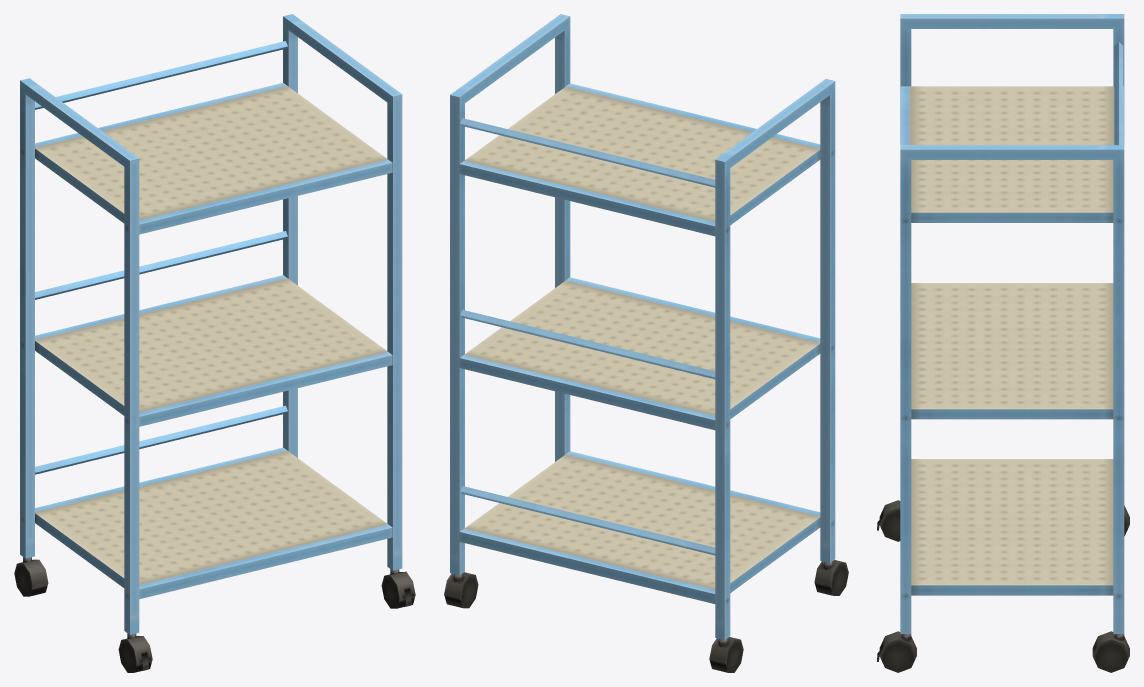
The model's file is KR_Rack_wagon_01_01.fbx.
3 renders of one model, left to right at view 1: azimuth 30°, elevation 25°; view 2: azimuth 150°, elevation 25°; view 3: azimuth 270°, elevation 25°, orthographic. The views are drawn at different scales.
Visible parts, largest first — view 1: rack_wagon, caster_02, caster_03, caster_01; view 2: rack_wagon, caster_04, caster_03, caster_01; view 3: rack_wagon, caster_02, caster_04, caster_01.
Boxes of the visible parts, bbox=[...] form: rack_wagon: bbox=[20, 14, 402, 634]; caster_02: bbox=[381, 569, 415, 608]; caster_03: bbox=[14, 557, 48, 596]; caster_01: bbox=[118, 633, 152, 672]; rack_wagon: bbox=[450, 14, 835, 640]; caster_04: bbox=[444, 572, 478, 608]; caster_03: bbox=[709, 637, 743, 672]; caster_01: bbox=[814, 560, 848, 595]; rack_wagon: bbox=[900, 14, 1124, 633]; caster_02: bbox=[877, 631, 916, 672]; caster_04: bbox=[1092, 631, 1129, 672]; caster_01: bbox=[877, 500, 900, 541].
Size of the model in its own units: 44 by 77 by 33.83.
